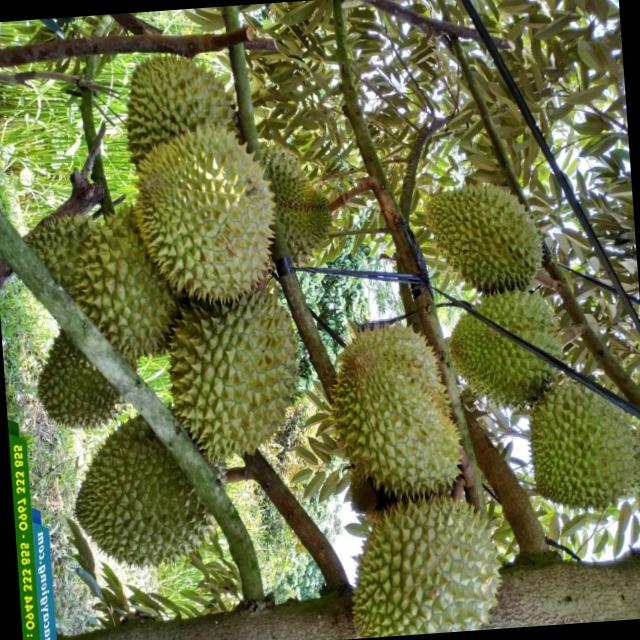Sau Rieng: (134, 127, 284, 310), (338, 312, 467, 516), (164, 286, 308, 464), (75, 417, 224, 576), (346, 496, 510, 626), (418, 165, 547, 310), (65, 210, 182, 360), (528, 377, 640, 513), (453, 293, 572, 414), (125, 44, 242, 164), (37, 329, 126, 432), (282, 204, 336, 268), (265, 146, 314, 211)
